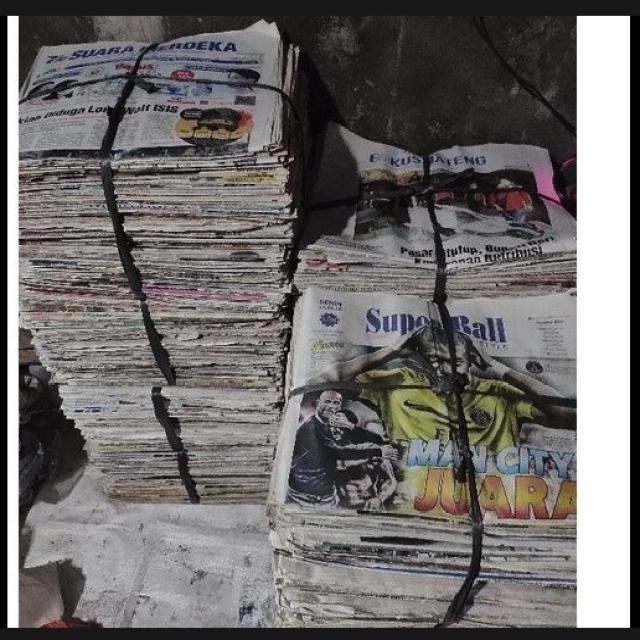Koran: (280, 142, 575, 632), (27, 33, 292, 507)
